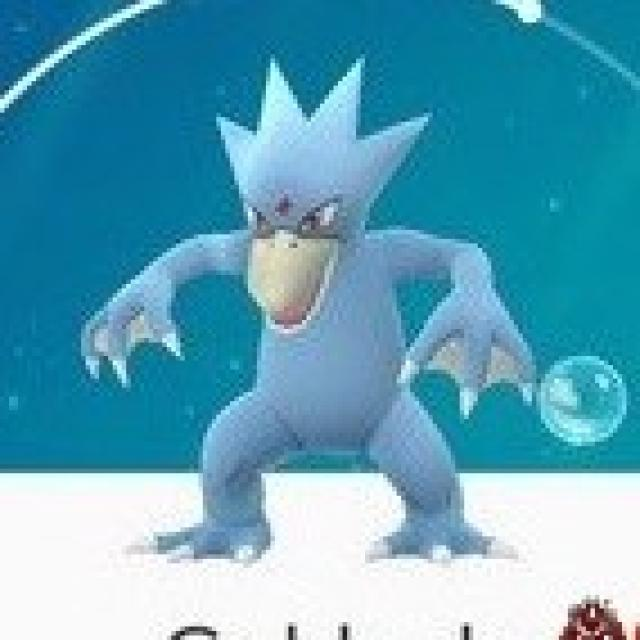Golduck: (146, 67, 472, 566)
